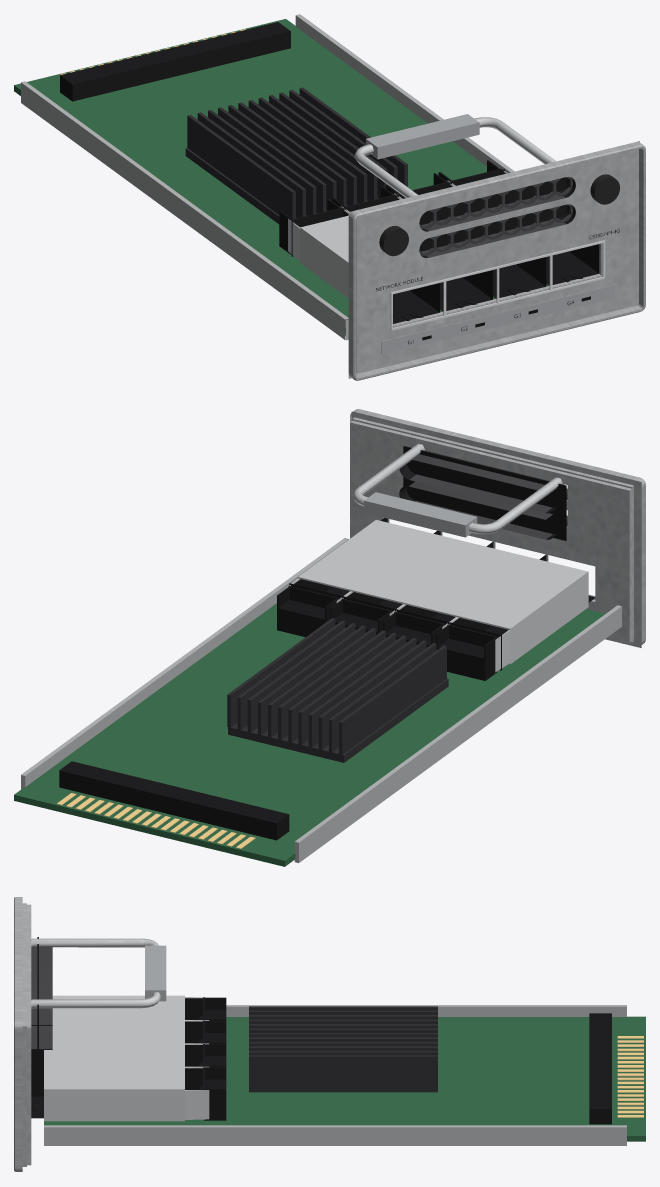
The picture shows the model from 3 angles, top to bottom: view 1: azimuth 30°, elevation 25°; view 2: azimuth 150°, elevation 25°; view 3: azimuth 270°, elevation 25°; orthographic projection. The views are drawn at different scales.
Parts seen in each view (by area): view 1: Body; view 2: Body; view 3: Body.
Boxes of the visible parts, x1=… form: Body: x1=14, y1=14, x2=645, y2=380; Body: x1=14, y1=409, x2=645, y2=866; Body: x1=14, y1=897, x2=645, y2=1171.
Size of the model in its own units: 0.0805 by 0.0438 by 0.1672.
15 materials, 3 textured.
